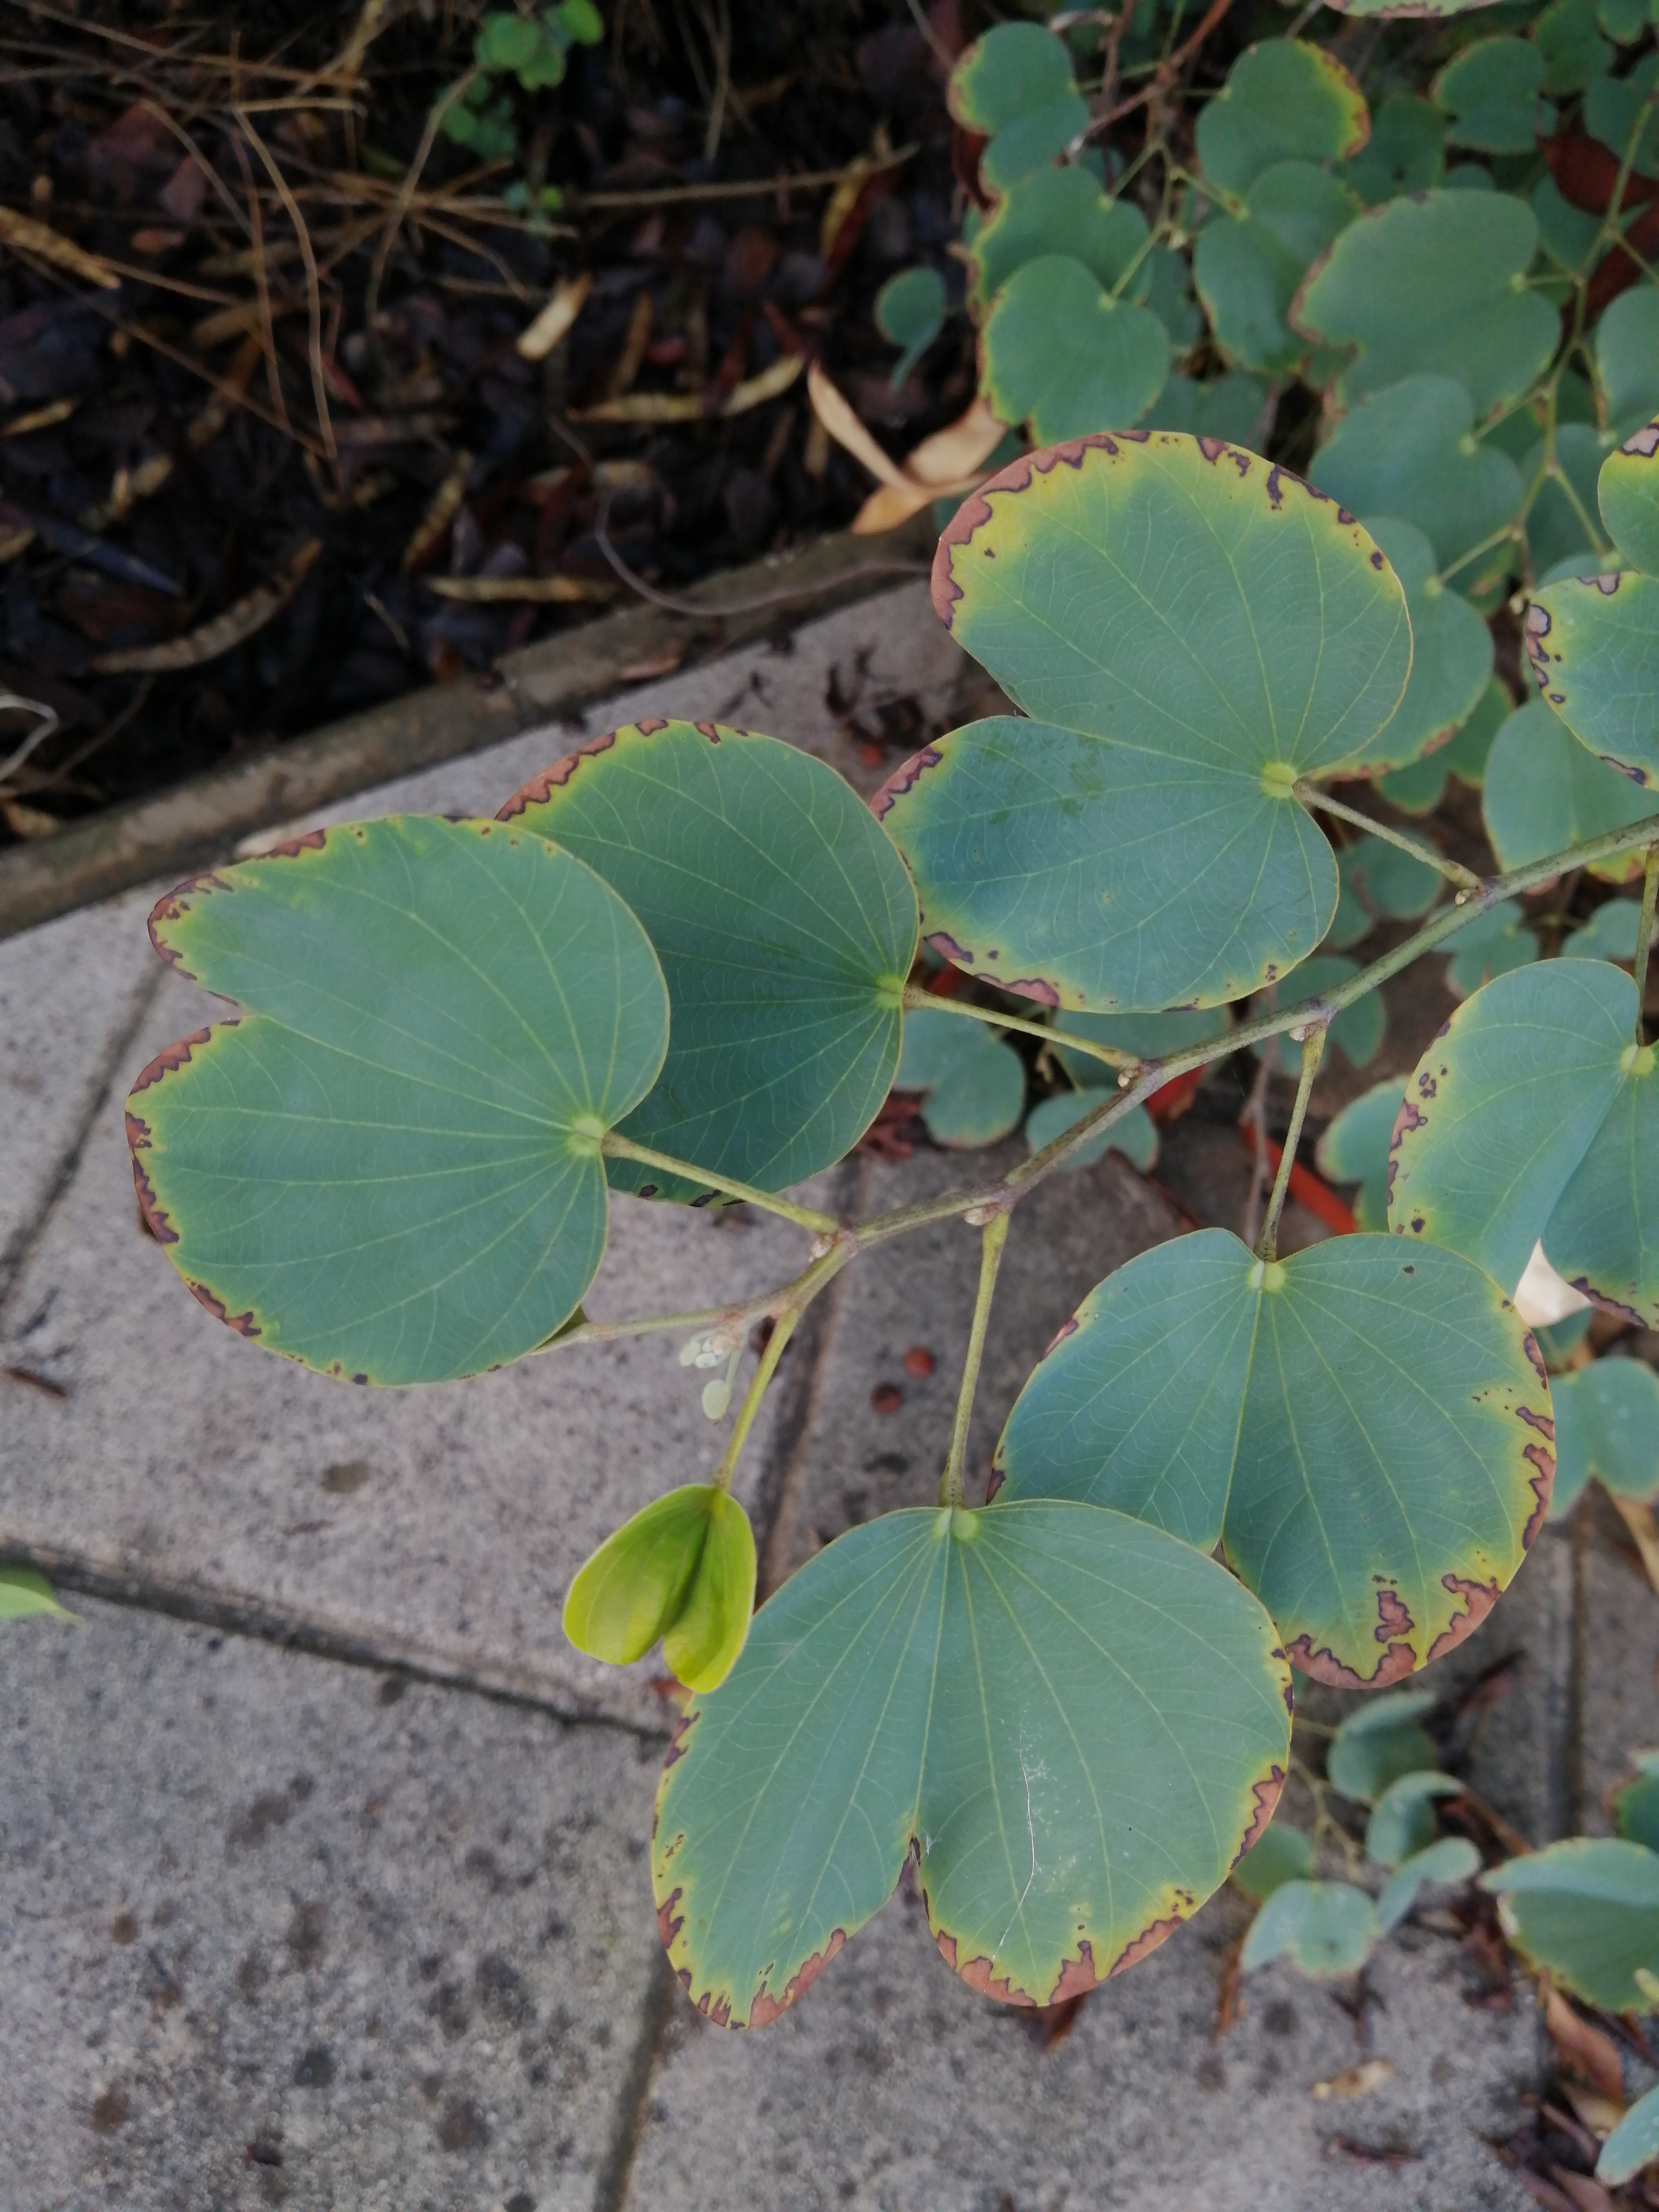nothealthy: (105, 799, 718, 1383), (847, 399, 1427, 1008), (678, 1519, 1316, 2036), (976, 1202, 1582, 1724), (509, 693, 946, 1231), (1342, 930, 1659, 1289), (1283, 136, 1584, 505), (1506, 394, 1659, 791), (948, 214, 1194, 453), (1159, 19, 1380, 202)
